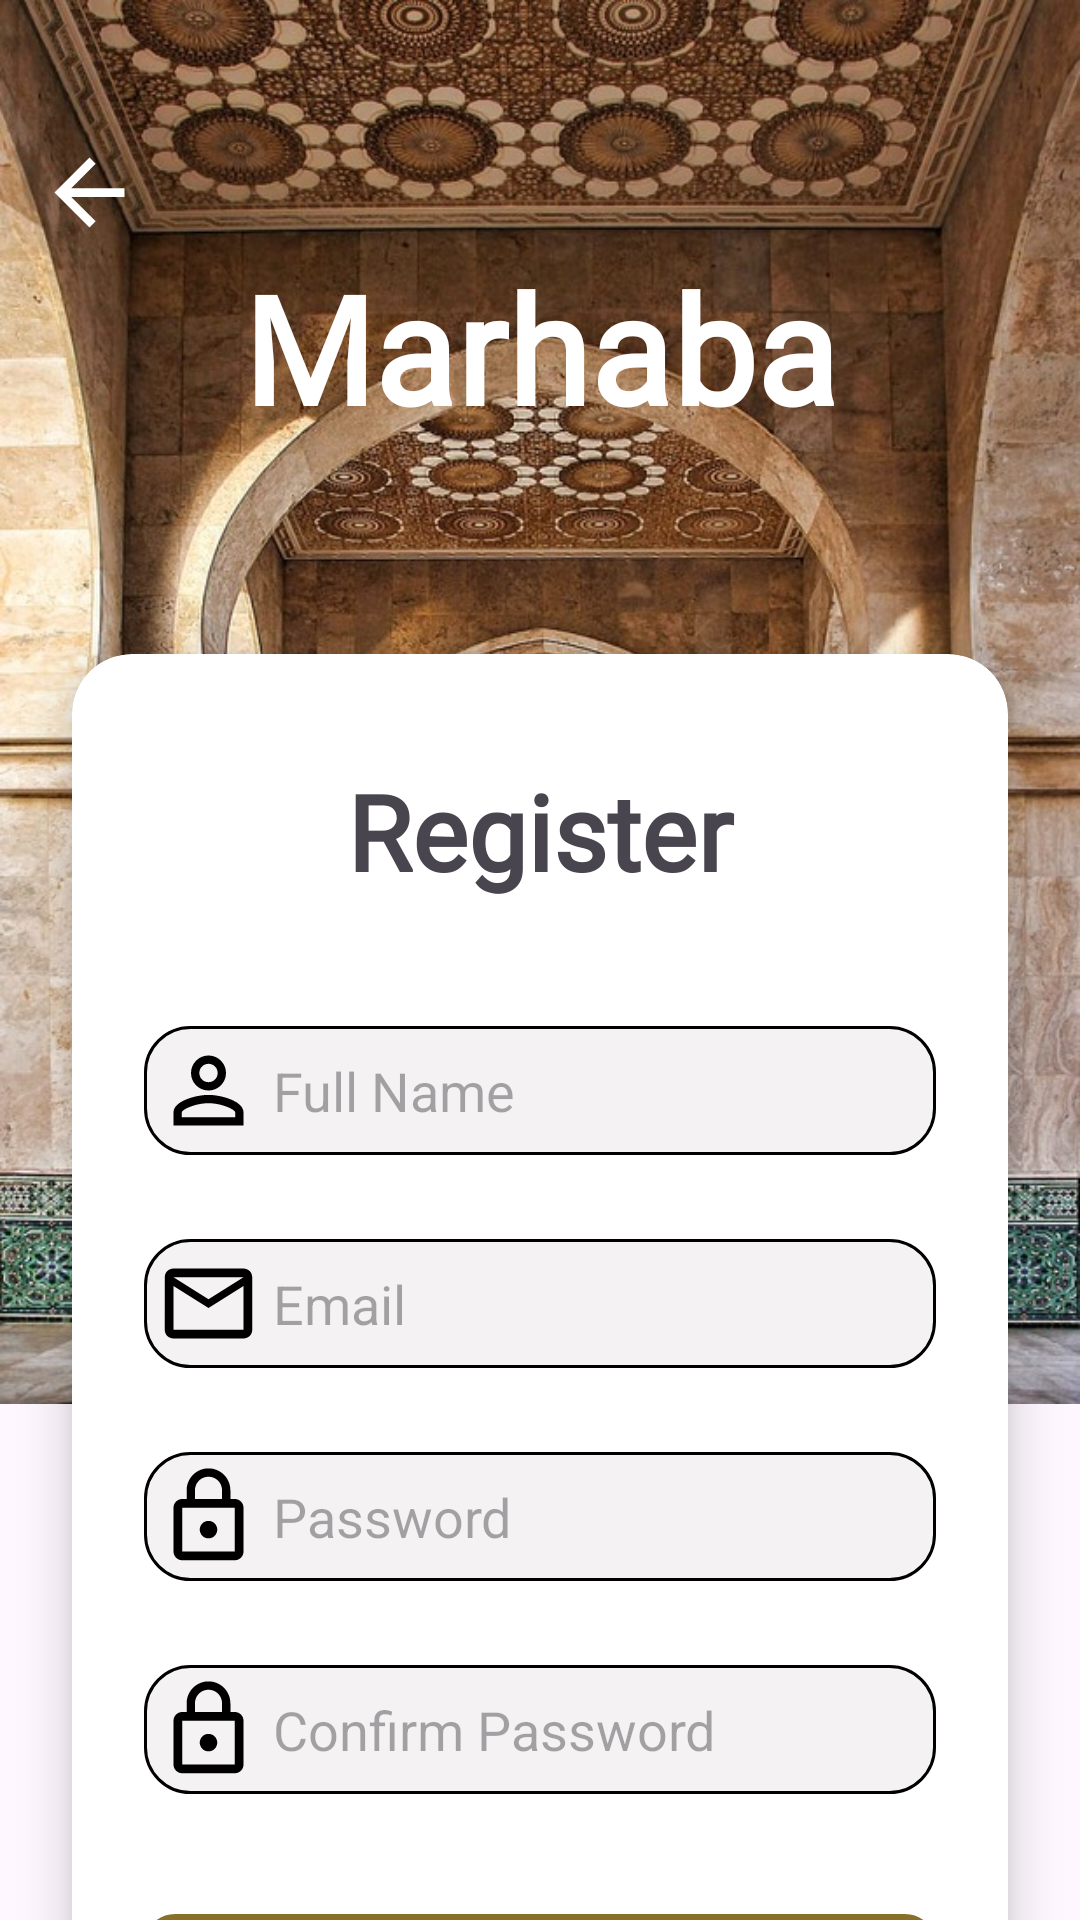

Named icons in this screenshot (1080 × 1920) and their centers, [x,y]:
back: [89,192]
